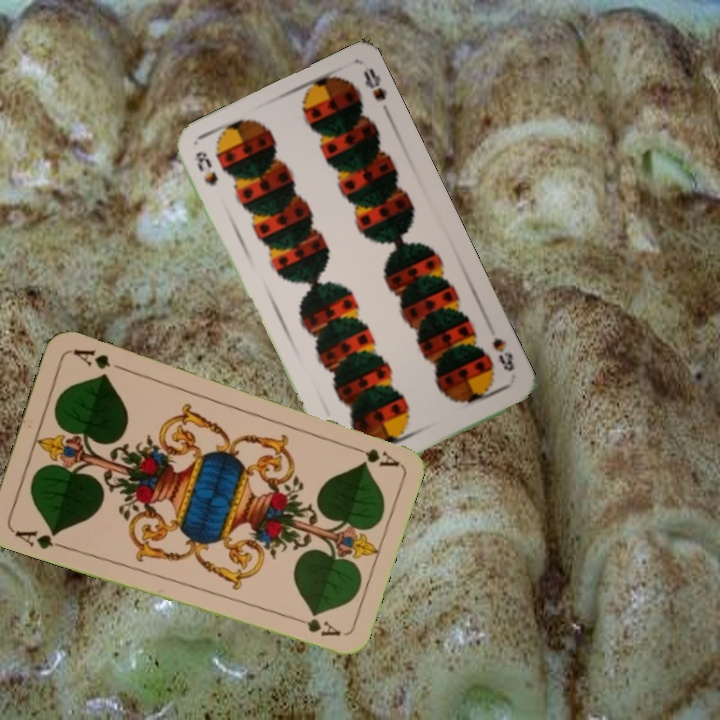GA: (343, 440, 401, 470), (11, 526, 67, 552)
S8: (190, 147, 221, 189), (488, 333, 517, 374)
